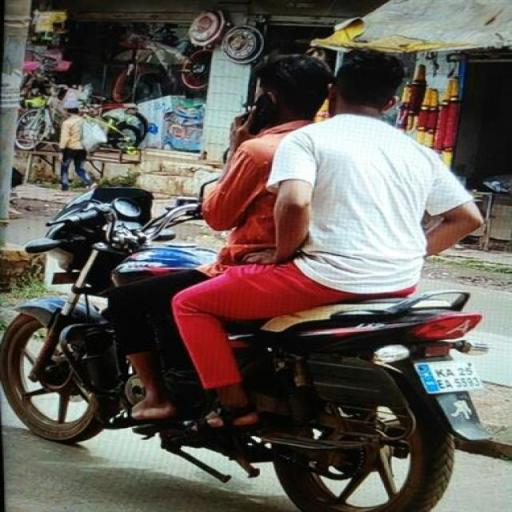using mobile: (227, 90, 281, 138)
